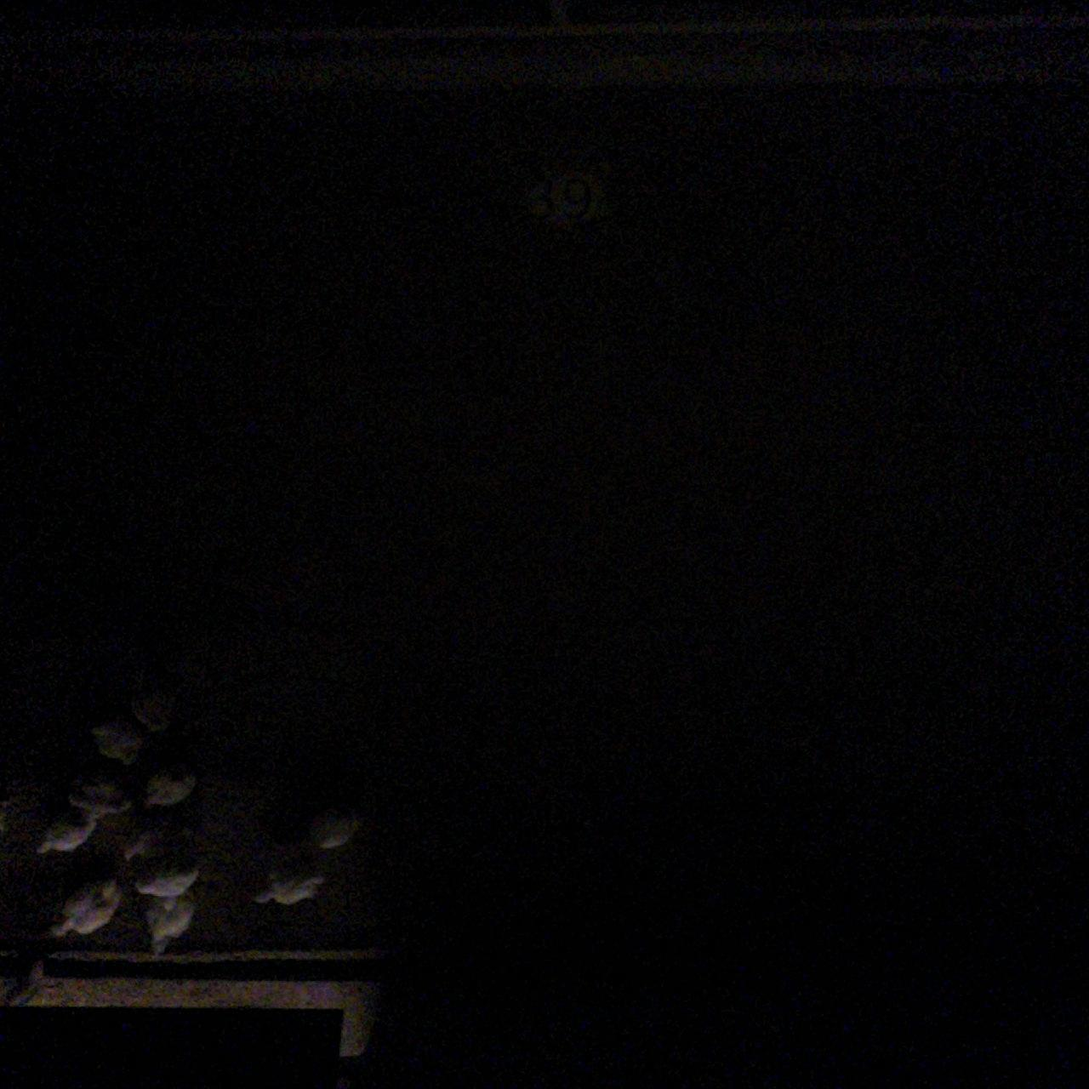chicken: (43, 871, 121, 939), (26, 805, 105, 847), (68, 769, 128, 818), (131, 860, 203, 895), (86, 727, 159, 761), (261, 864, 324, 903), (305, 810, 359, 852), (118, 827, 185, 858), (134, 772, 195, 804), (150, 902, 191, 945)
